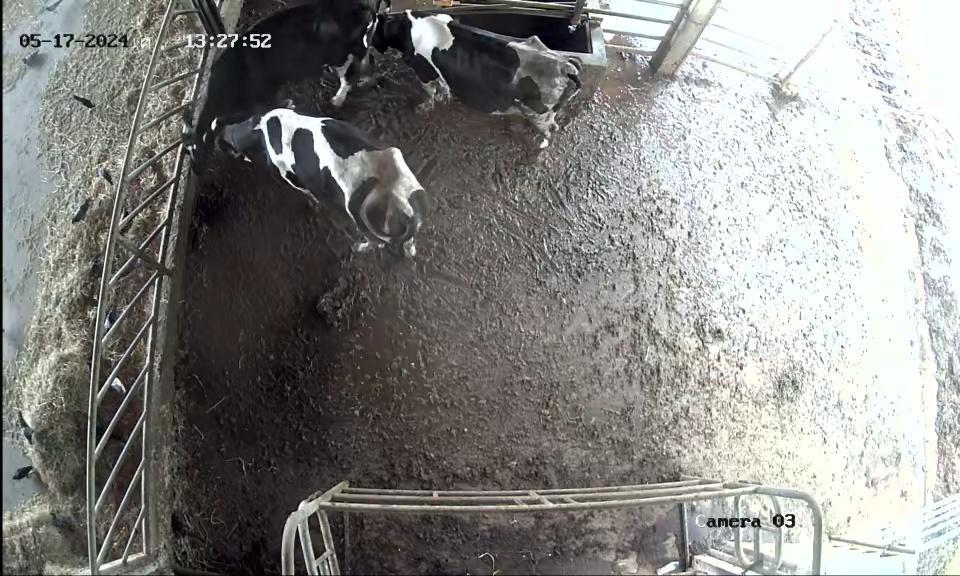stand: (214, 104, 441, 268), (169, 1, 384, 166), (377, 6, 584, 149)
